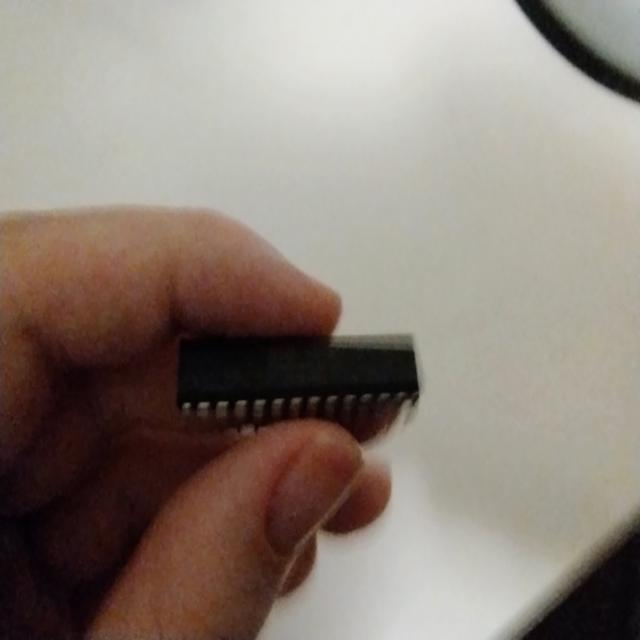atmega: (168, 320, 426, 436)
